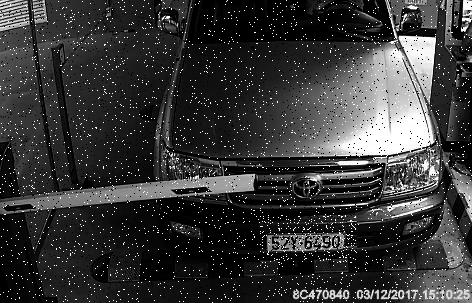License-plate: (261, 217, 358, 265)
